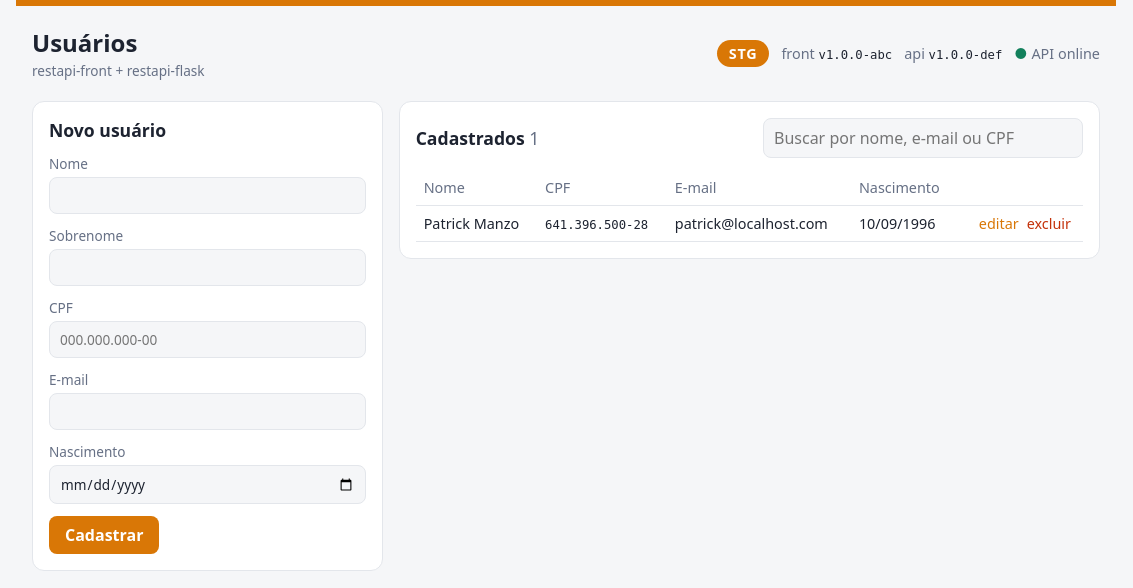
Test case: App › filtra pela busca
Expected: the text "Patrick Manzo" is shown, [416,206,537,242]
Type "ninguém" into the search field with placeholder "Buscar por nome, e-mail ou CPF". click: (923, 138)
box: [763,118,1083,158]
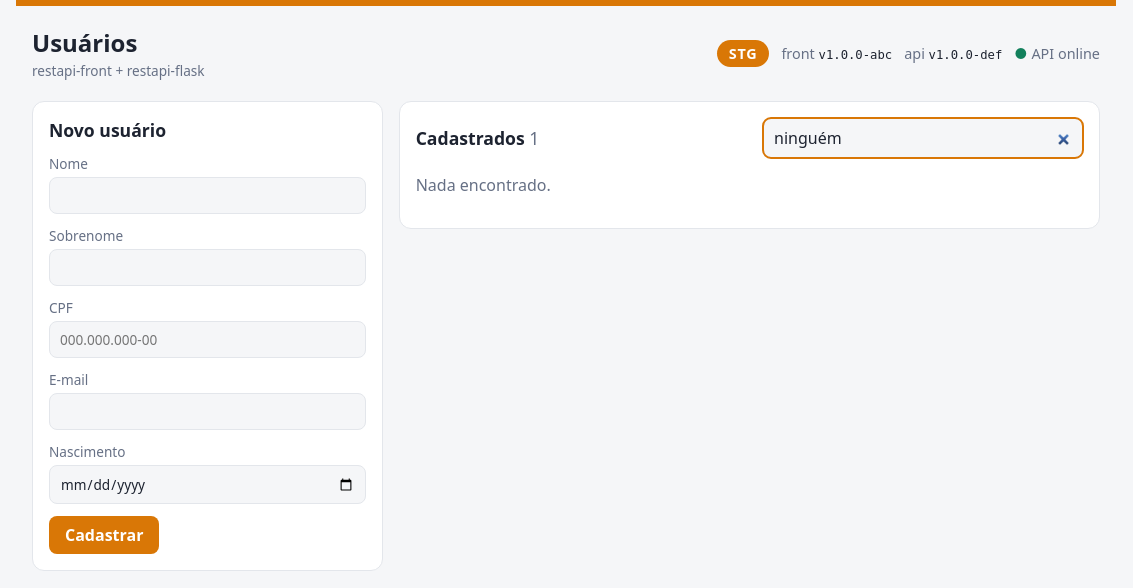
Now the text "Nada encontrado." is shown, box [416,174,551,196]
